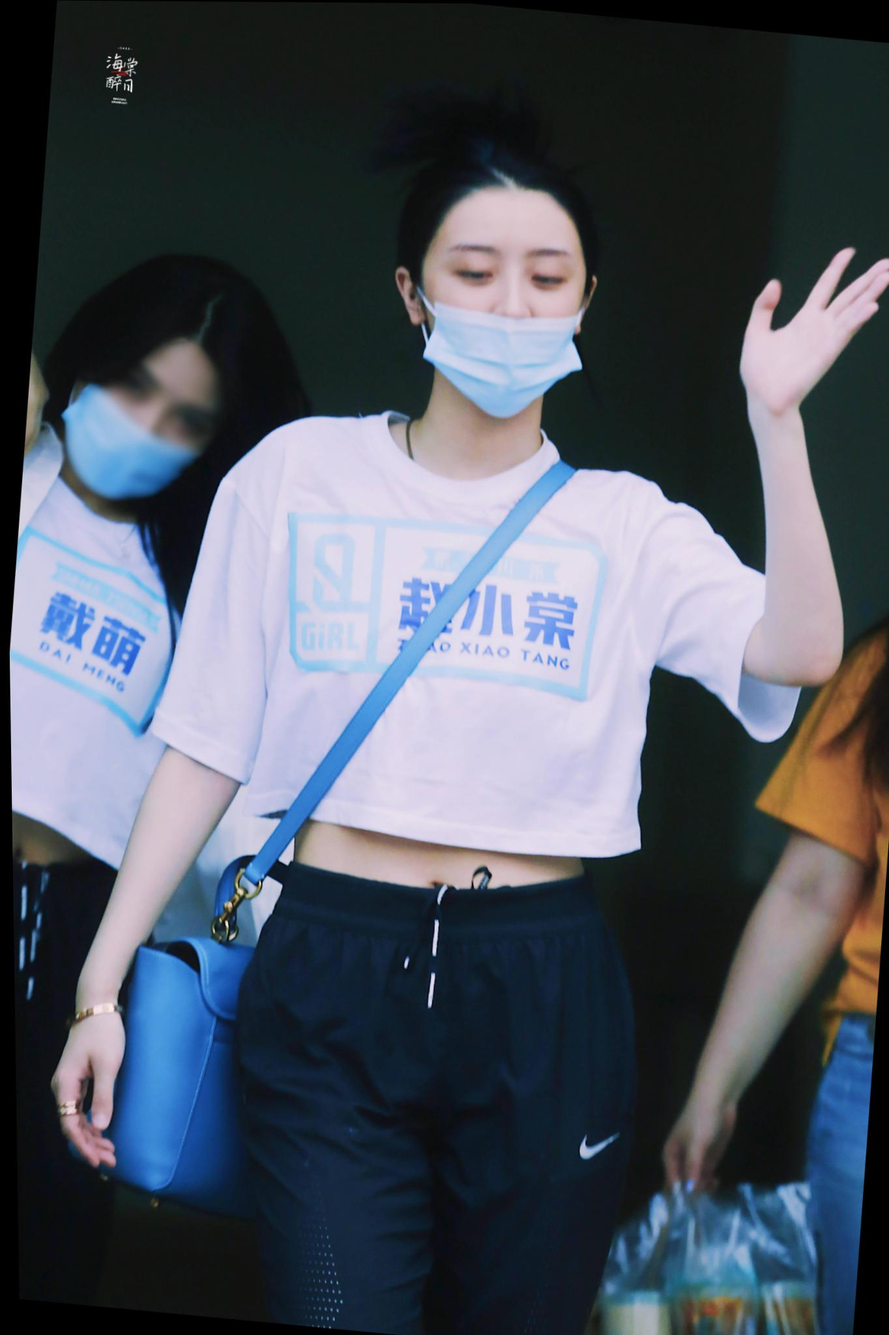OK: (53, 333, 215, 505)
WRONG: (407, 223, 586, 412)
